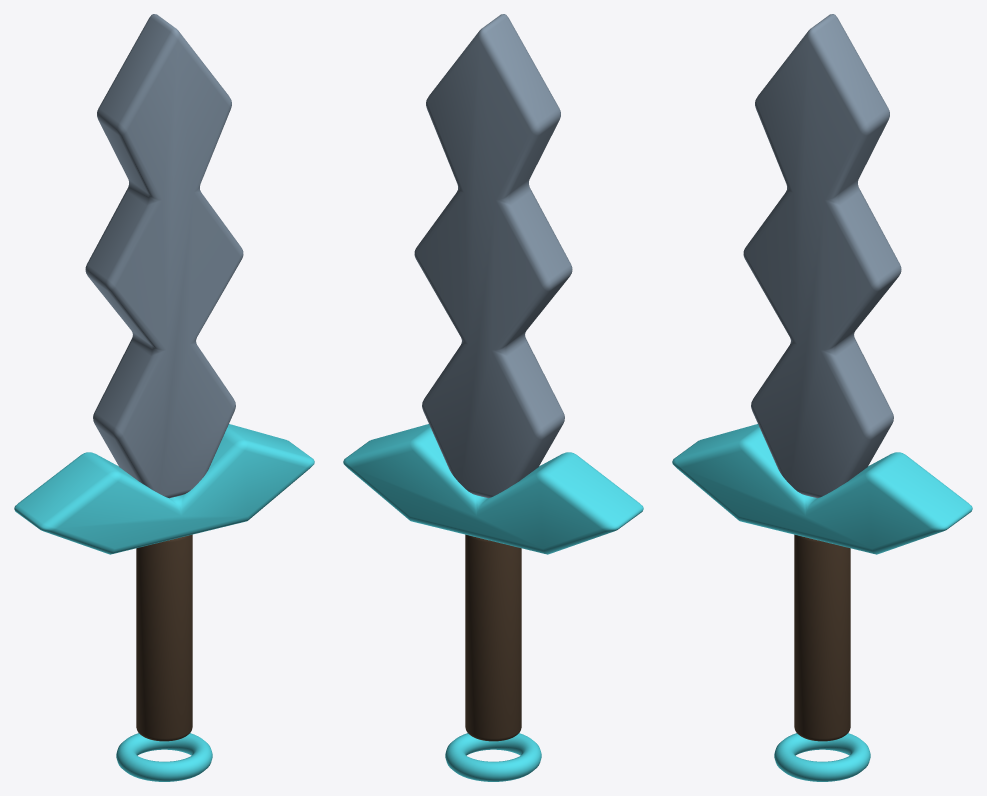
Rendered from dagger_v6.glb.
3 views of the same model, side by side, from view 1: azimuth 30°, elevation 25°; view 2: azimuth 150°, elevation 25°; view 3: azimuth 330°, elevation 25° (orthographic).
Visible parts, largest first — view 1: KRIS_BLADE_PRIMARY, KRIS_GUARD_ACCENT, GRIP_SECONDARY, POMMEL_ACCENT; view 2: KRIS_BLADE_PRIMARY, KRIS_GUARD_ACCENT, GRIP_SECONDARY, POMMEL_ACCENT; view 3: KRIS_BLADE_PRIMARY, KRIS_GUARD_ACCENT, GRIP_SECONDARY, POMMEL_ACCENT.
Boxes of the visible parts, box(x1,y1,x2,y2) form: KRIS_BLADE_PRIMARY: box(85, 14, 243, 498); KRIS_GUARD_ACCENT: box(14, 424, 314, 554); GRIP_SECONDARY: box(136, 534, 192, 741); POMMEL_ACCENT: box(116, 733, 212, 781); KRIS_BLADE_PRIMARY: box(414, 14, 572, 498); KRIS_GUARD_ACCENT: box(343, 424, 643, 554); GRIP_SECONDARY: box(465, 534, 521, 741); POMMEL_ACCENT: box(445, 733, 541, 781); KRIS_BLADE_PRIMARY: box(743, 14, 901, 498); KRIS_GUARD_ACCENT: box(672, 424, 972, 554); GRIP_SECONDARY: box(794, 534, 850, 741); POMMEL_ACCENT: box(774, 733, 870, 781).
Bounding box in the file's own units: 1.4 × 3.63 × 0.4275.
